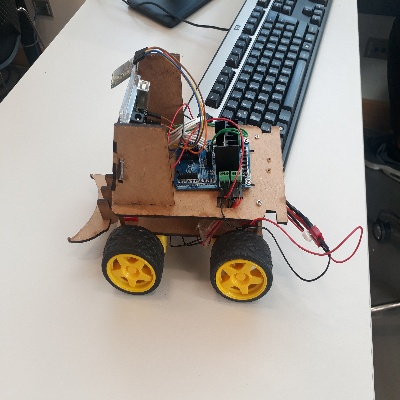Robot: (69, 49, 289, 302)
